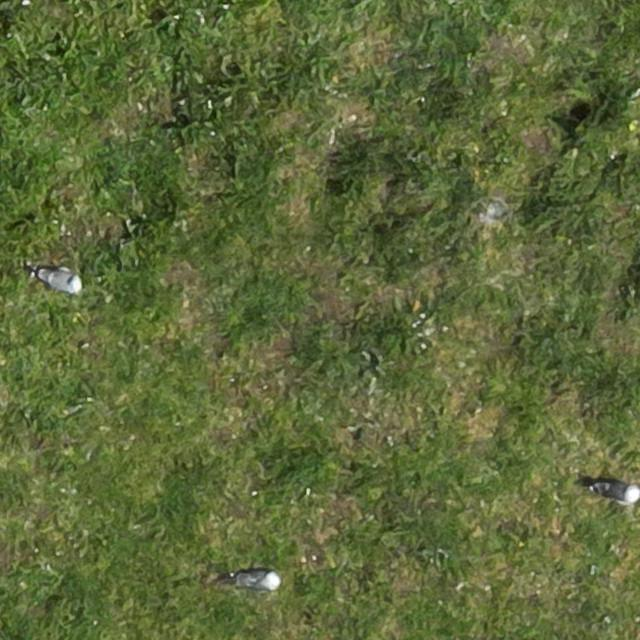umineko: (40, 269, 80, 291), (596, 482, 639, 502), (236, 572, 280, 590)
